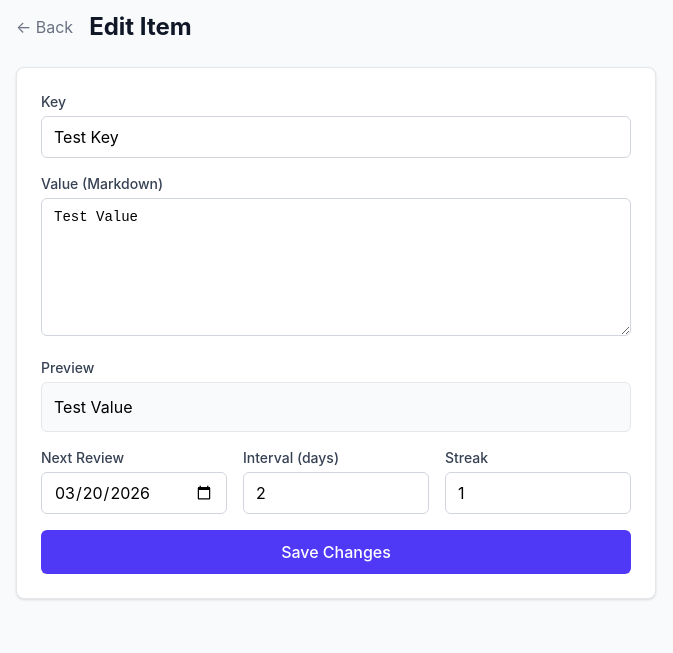
Test: EditItemForm › shows error when key is empty on submit
The width and height of the screenshot is (673, 653).
Clear the field labelled "Key" at (336, 137), box x1=41 y1=116 x2=631 y2=158
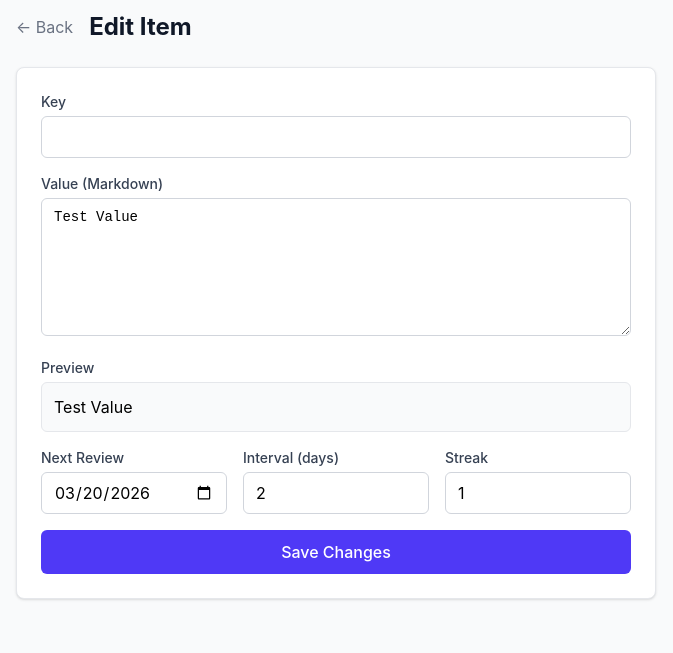
Click the button "Save Changes" at (336, 552), box x1=41 y1=530 x2=631 y2=574
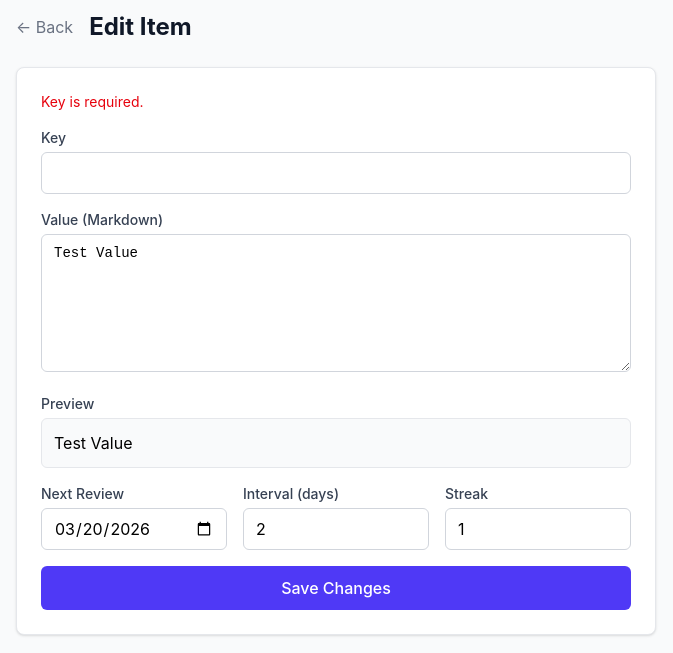
Result: the message reads "Key is required." at x1=41 y1=93 x2=144 y2=110
